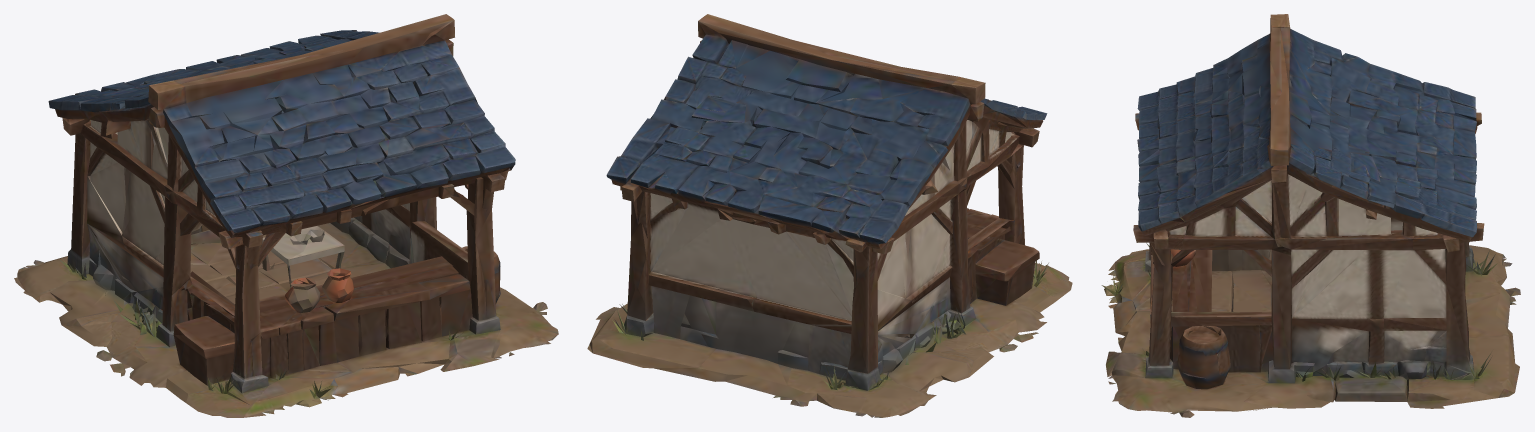
The model's file is market.glb.
3 views of the same model, side by side, from view 1: azimuth 30°, elevation 25°; view 2: azimuth 150°, elevation 25°; view 3: azimuth 270°, elevation 25° (orthographic). The views are drawn at different scales.
Size of the model in its own units: 1.9 by 1.23 by 1.88.
1 material, 1 textured.
